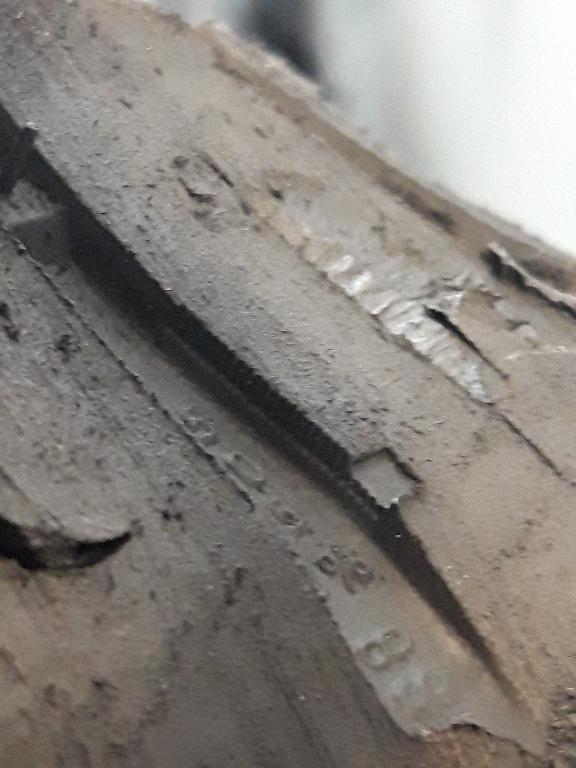temoin:25: (299, 398, 430, 524)
